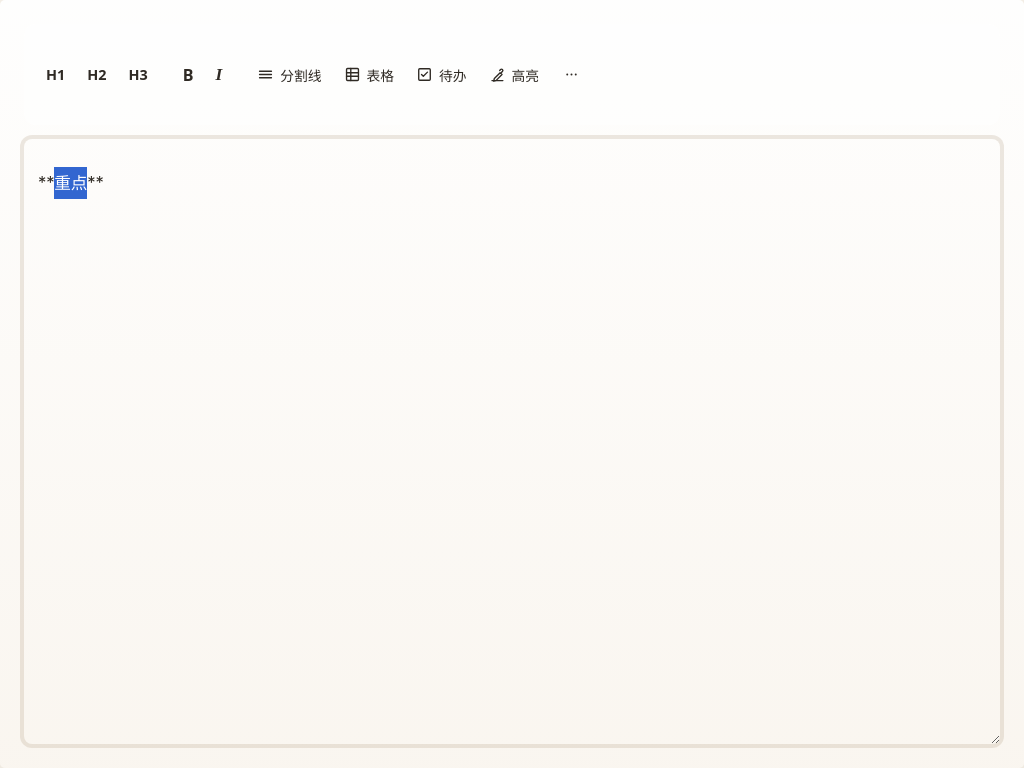
markdown editor › removes the active bold markers when the bold toolbar button is clicked again
Click the button named "粗体".
click(188, 74)  # box [173,58,204,92]
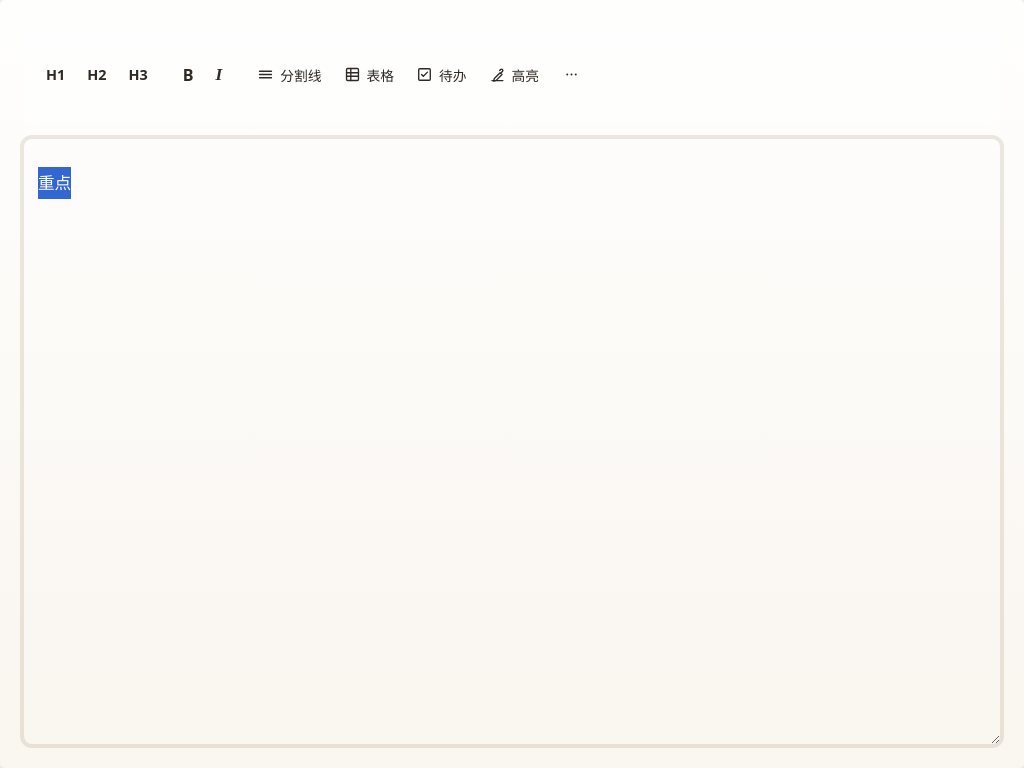
Expected: the text box named "Markdown 编辑器" holds "重点"
